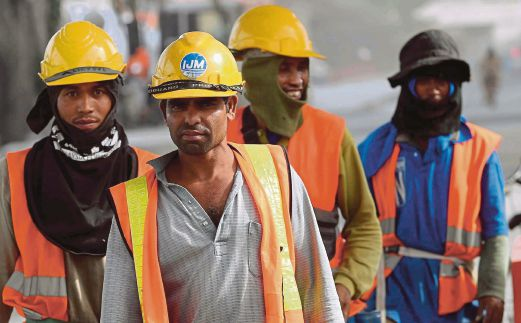No Safety Helmet: (380, 24, 480, 140)
Safety Helmet: (145, 23, 249, 166), (33, 18, 136, 156), (228, 2, 333, 121)
